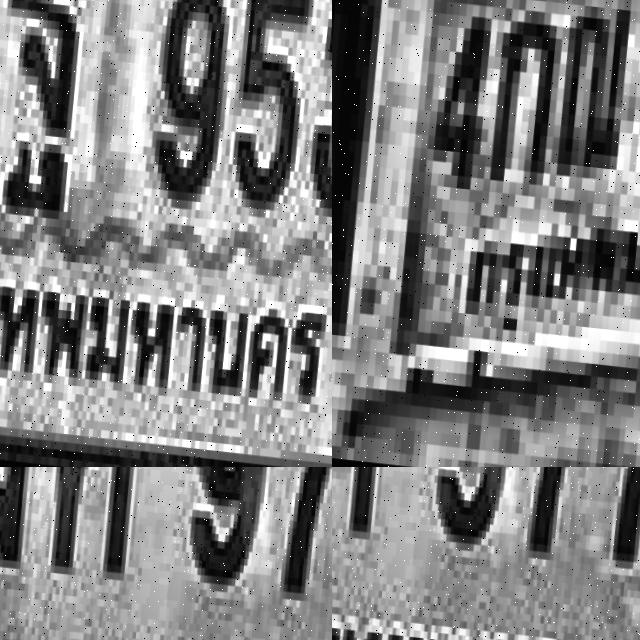license-plate: (0, 0, 332, 467), (332, 0, 640, 467), (0, 467, 332, 640), (332, 467, 640, 640)
